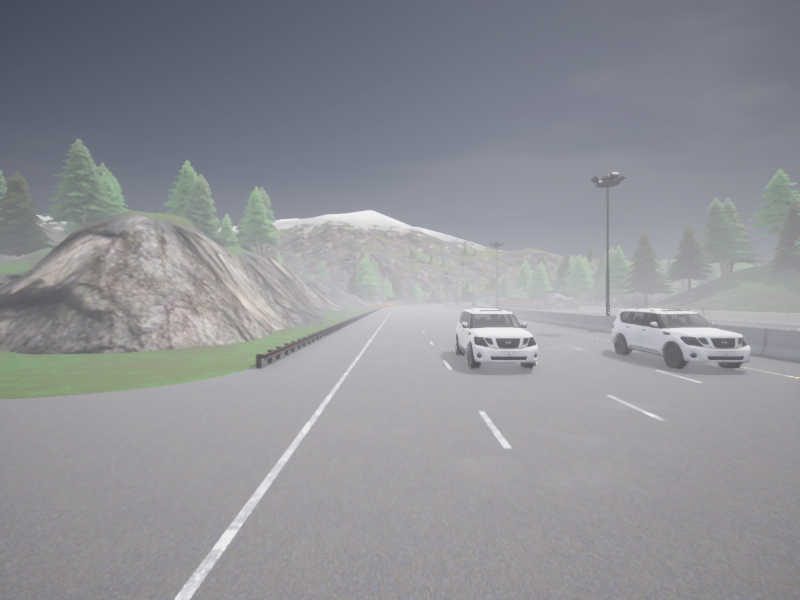vehicle: (611, 308, 750, 368), (455, 308, 537, 369), (487, 300, 492, 304), (471, 302, 475, 305), (455, 302, 460, 304)
